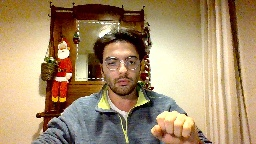Pugno: (147, 107, 198, 143)
